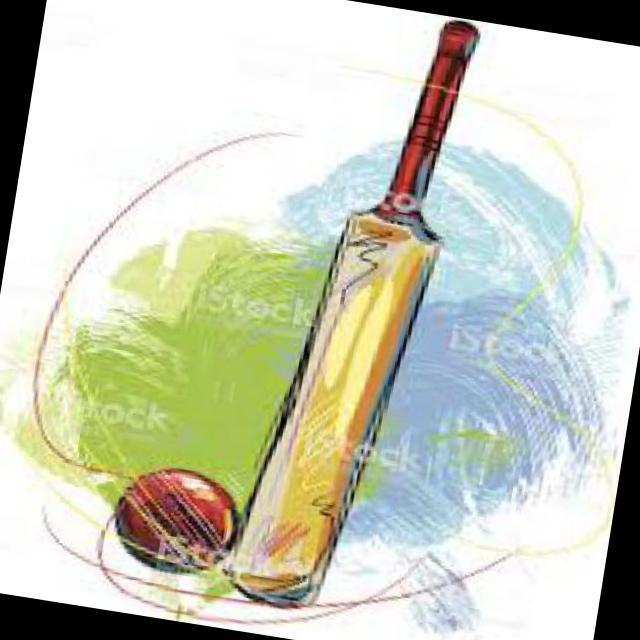-: (101, 458, 252, 585)
